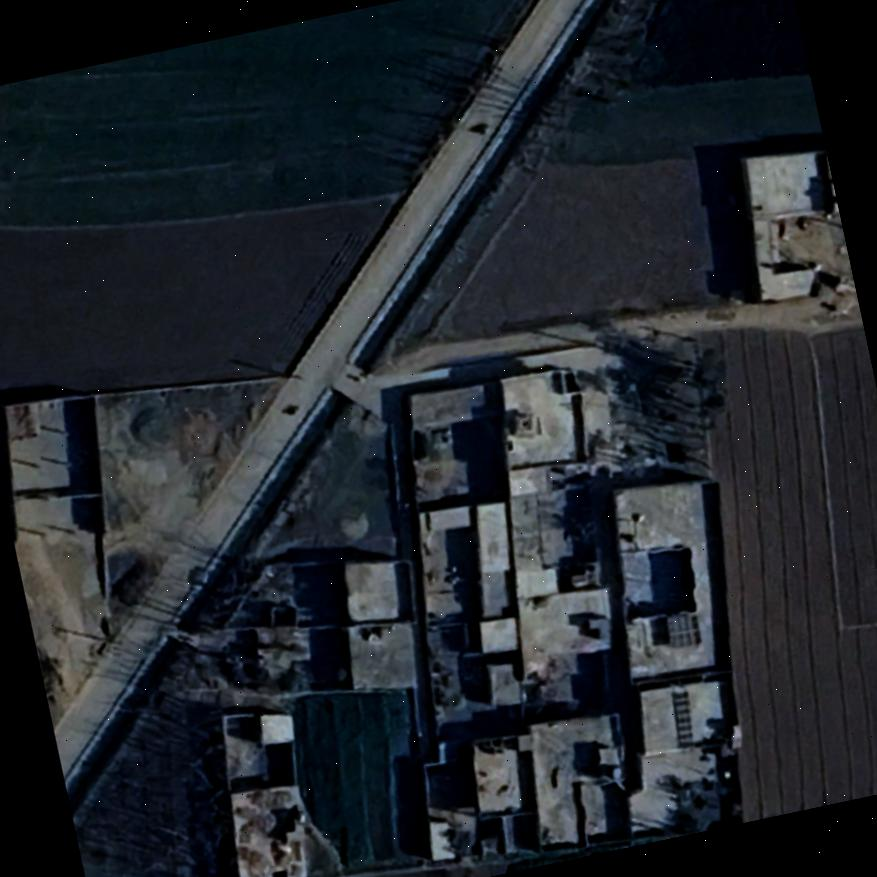Solarpanel: (664, 684, 700, 750), (658, 605, 704, 652)
